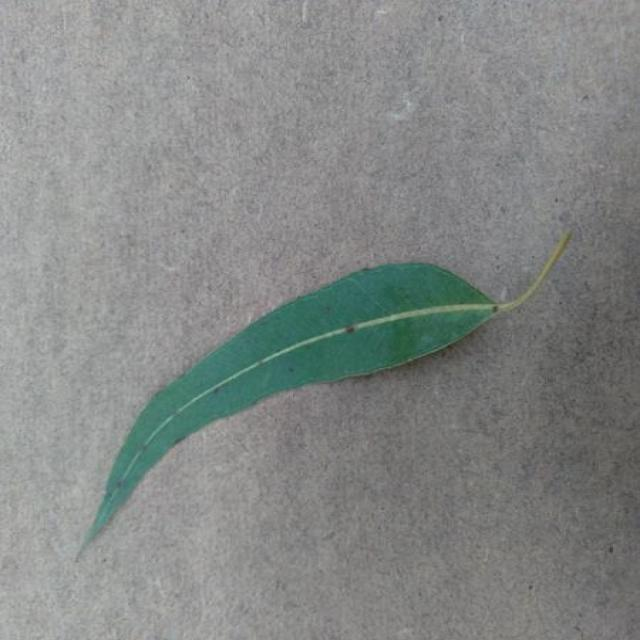eucalpytus: (85, 264, 498, 547)
